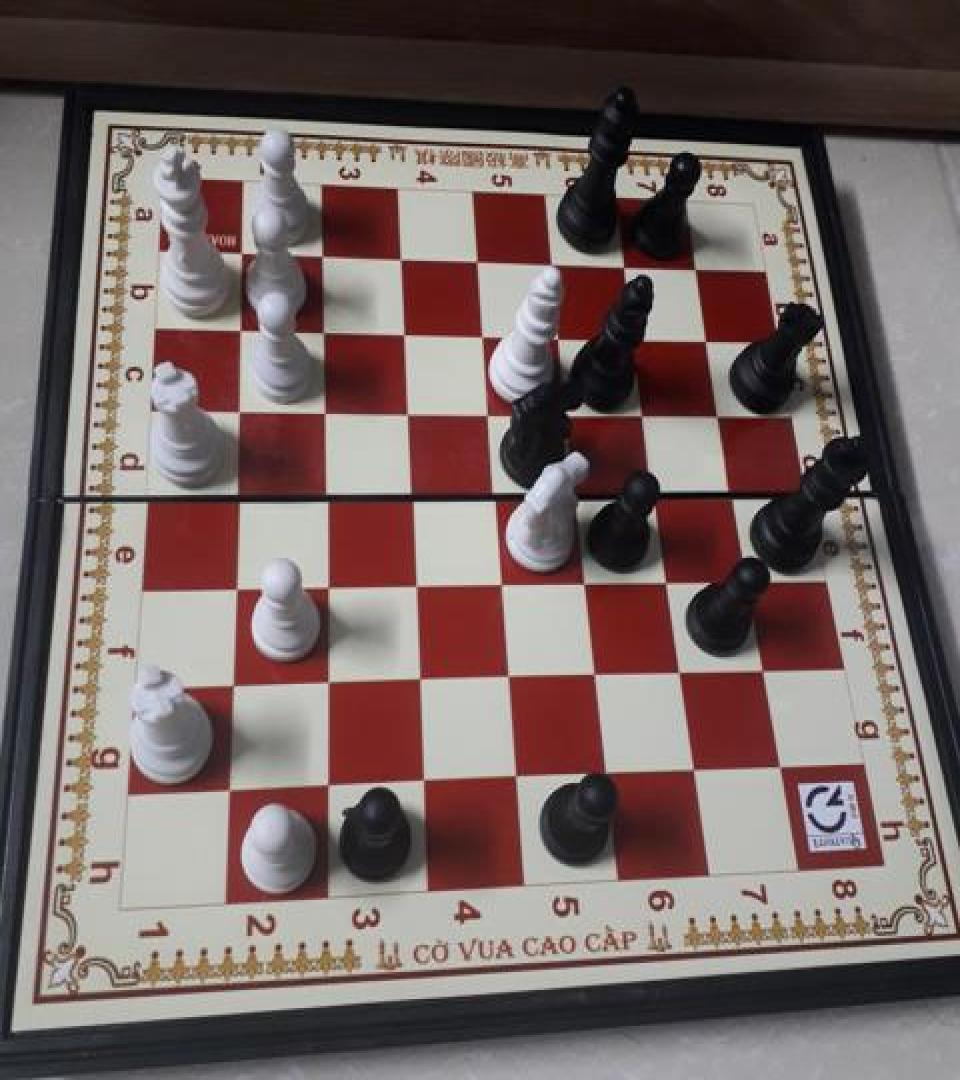xcorner: (496, 653, 528, 690), (219, 660, 251, 697), (316, 761, 348, 798), (680, 251, 712, 287), (609, 248, 641, 284), (537, 245, 569, 281), (463, 242, 495, 278), (387, 238, 419, 274), (309, 236, 341, 272), (230, 233, 262, 269), (692, 320, 724, 356), (619, 318, 651, 354), (545, 316, 577, 352), (469, 314, 501, 350), (391, 312, 423, 348), (310, 310, 342, 346), (228, 306, 260, 342), (705, 395, 737, 431), (630, 392, 662, 428), (554, 392, 586, 428), (394, 389, 426, 425), (311, 387, 343, 423), (226, 386, 258, 422), (719, 474, 751, 510), (642, 472, 674, 508), (563, 472, 595, 508), (481, 472, 513, 508), (398, 472, 430, 508), (312, 472, 344, 508), (224, 470, 256, 506), (734, 557, 766, 593), (654, 558, 686, 594), (572, 559, 604, 595), (488, 559, 520, 595), (402, 560, 434, 596), (313, 562, 345, 598), (222, 562, 254, 598), (750, 647, 782, 683), (667, 649, 699, 685), (583, 652, 615, 688), (406, 656, 438, 692), (314, 658, 346, 694), (767, 744, 799, 780), (682, 747, 714, 783), (594, 750, 626, 786), (504, 754, 536, 790), (411, 758, 443, 794), (217, 766, 249, 802), (475, 391, 507, 426)
